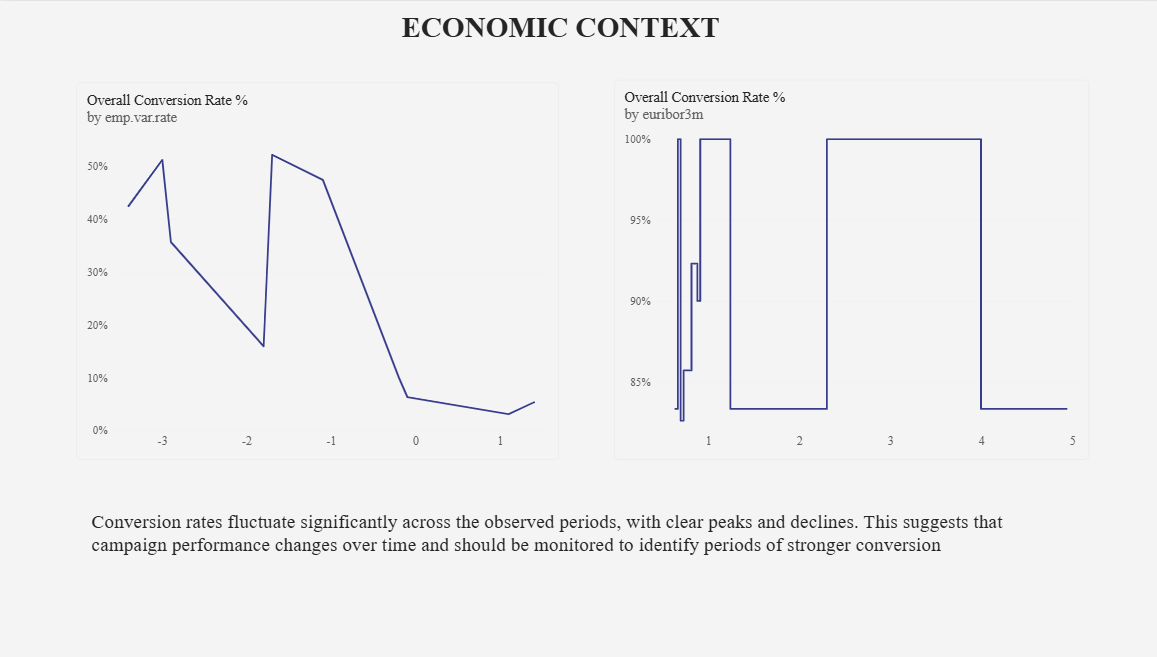

Layout of this report page (visuals, bound fields, positions):
{"tool":"powerbi","page":{"name":"Economic Context","canvas":[1920,1080],"ordinal":4},"visuals":[{"type":"textbox","box":[662.8,16.5,629.8,63.8],"z":0},{"type":"lineChart","fields":{"Category":["cleaned_bank_marketing.emp.var.rate"],"Y":["channel_summary.Overall Conversion Rate %"]},"box":[127.6,133.8,794.5,621.6],"z":1000},{"type":"lineChart","fields":{"Category":["cleaned_bank_marketing.euribor3m"],"Y":["channel_summary.Overall Conversion Rate %"]},"box":[1012.7,129.7,782.2,625.7],"z":2000},{"type":"textbox","box":[152.3,837.7,1613.7,162.6],"z":3000}]}

Visuals, with their boxes in screenshot pixels (x1, y1, x2, y2), scaled from the page's 1920x1080 canvas onto the 1157x657 screenshot:
textbox: box(399, 10, 779, 49)
lineChart - cleaned_bank_marketing.emp.var.rate x channel_summary.Overall Conversion Rate %: box(77, 81, 556, 460)
lineChart - cleaned_bank_marketing.euribor3m x channel_summary.Overall Conversion Rate %: box(610, 79, 1082, 460)
textbox: box(92, 510, 1064, 609)
